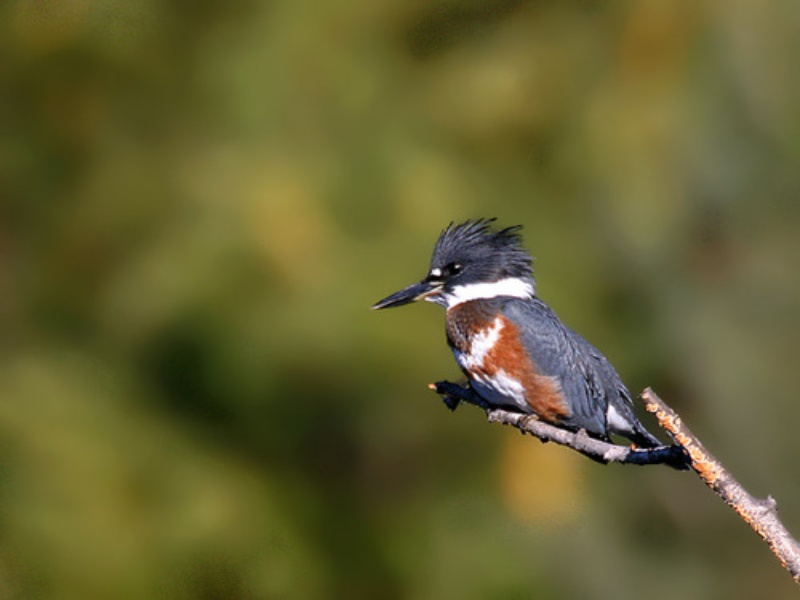kingfisher: (365, 211, 694, 478)
